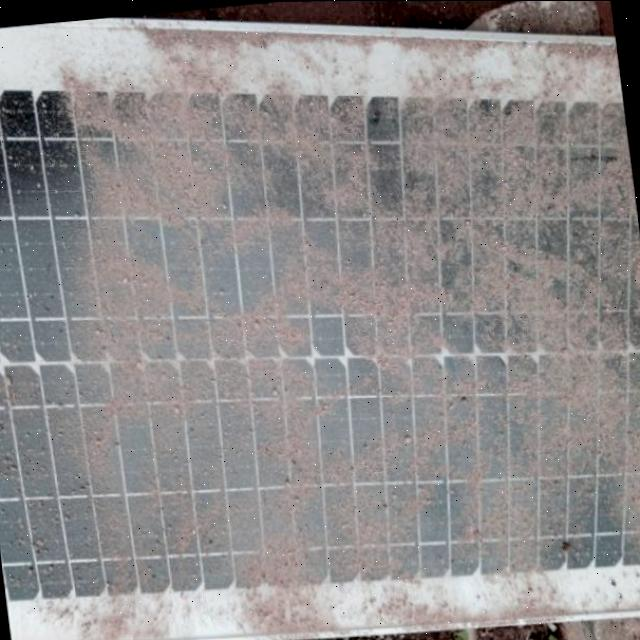Surface Contaminant: (56, 23, 640, 640)
